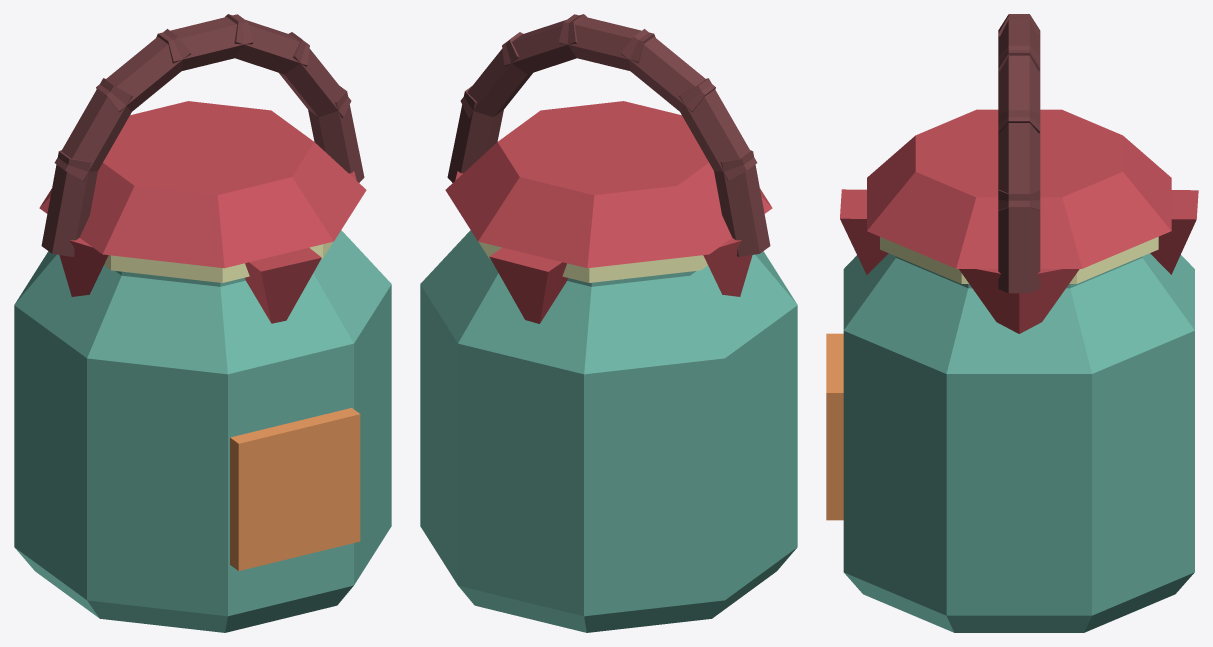
The model's file is jar.glb.
3 views of the same model, side by side, from view 1: azimuth 30°, elevation 25°; view 2: azimuth 150°, elevation 25°; view 3: azimuth 270°, elevation 25° (orthographic).
Visible parts, largest first — view 1: Jar; view 2: Jar; view 3: Jar.
Part boxes in pixels (x1=…): Jar: x1=14, y1=14, x2=391, y2=632; Jar: x1=420, y1=14, x2=797, y2=632; Jar: x1=826, y1=14, x2=1198, y2=632.
Size of the model in its own units: 0.5134 by 0.843 by 0.5307.
